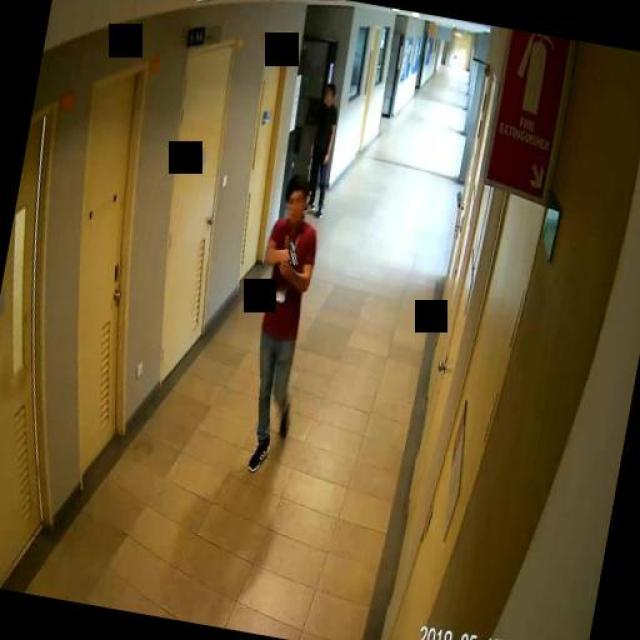gun: (280, 240, 300, 272)
